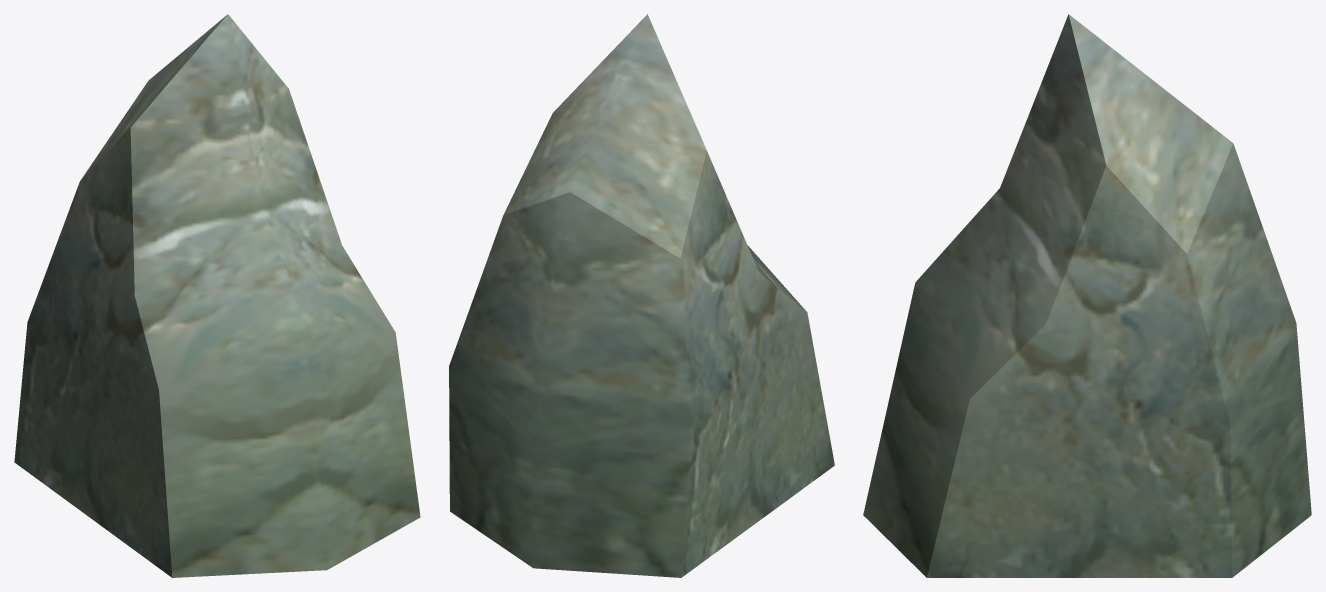
Rendered from QSMY_MJ_Shan01.FBX.
The picture shows the model from 3 angles, left to right: view 1: azimuth 30°, elevation 25°; view 2: azimuth 150°, elevation 25°; view 3: azimuth 270°, elevation 25°; orthographic projection. The views are drawn at different scales.
Parts seen in each view (by area): view 1: Box49; view 2: Box49; view 3: Box49.
Part boxes in pixels (x1,y1,x2,y2): Box49: (14, 14, 420, 577); Box49: (449, 14, 834, 577); Box49: (863, 14, 1311, 577).
Bounding box in the file's own units: 11.76 × 21.73 × 17.63.
